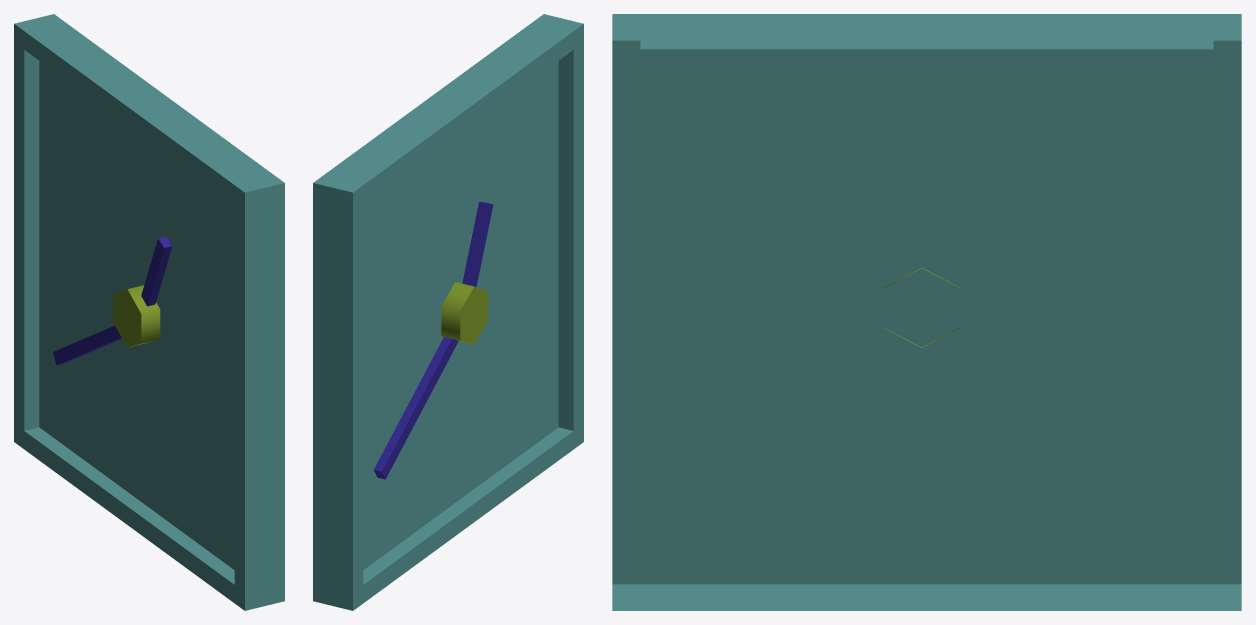
Rendered from cadran.FBX.
The picture shows the model from 3 angles, left to right: view 1: azimuth 30°, elevation 25°; view 2: azimuth 150°, elevation 25°; view 3: azimuth 270°, elevation 25°; orthographic projection. The views are drawn at different scales.
Parts seen in each view (by area): view 1: cadran; view 2: cadran; view 3: cadran.
Boxes of the visible parts, box(x1,y1,x2,y2) form: cadran: box(14, 14, 284, 610); cadran: box(313, 14, 583, 610); cadran: box(612, 14, 1241, 610).
Bounding box in the file's own units: 10.98 × 100 × 100.
